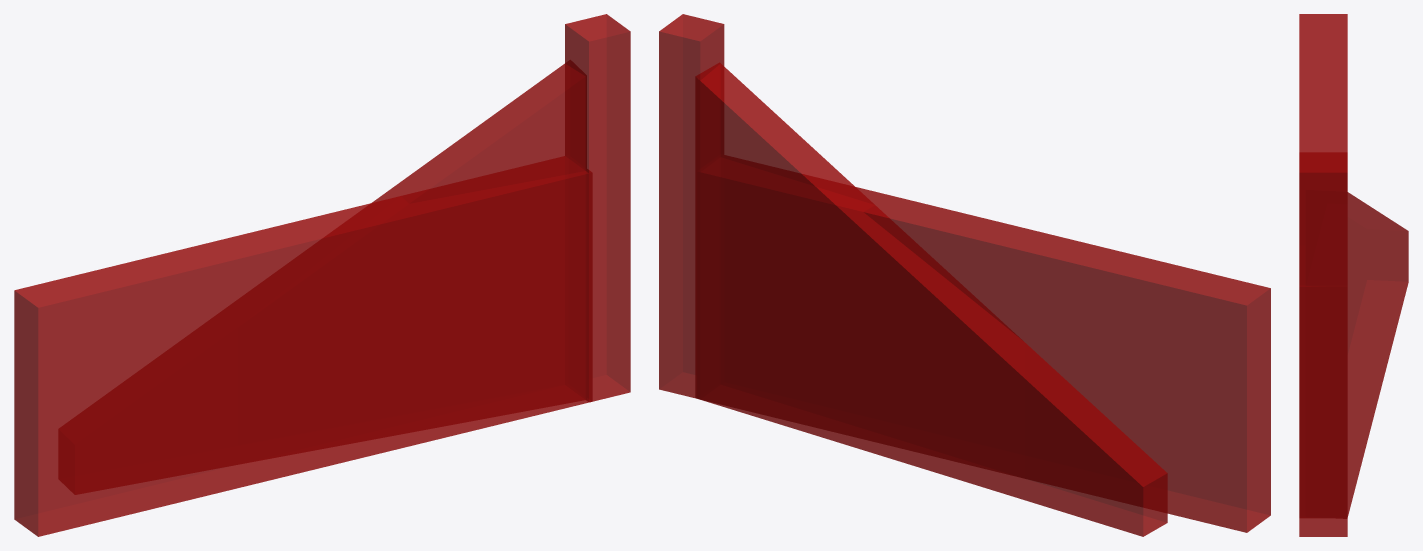
File: SM_Prop_Meadow_Fence_05_Collision.fbx
3 views of the same model, side by side, from view 1: azimuth 30°, elevation 25°; view 2: azimuth 150°, elevation 25°; view 3: azimuth 270°, elevation 25° (orthographic).
Parts seen in each view (by area): view 1: SM_Prop_Meadow_Fence_05_Collision; view 2: SM_Prop_Meadow_Fence_05_Collision; view 3: SM_Prop_Meadow_Fence_05_Collision.
Part boxes in pixels (<box>): SM_Prop_Meadow_Fence_05_Collision: <box>14,14,630,536</box>; SM_Prop_Meadow_Fence_05_Collision: <box>659,14,1270,536</box>; SM_Prop_Meadow_Fence_05_Collision: <box>1299,14,1408,536</box>.
Bounding box in the file's own units: 253 × 147 × 40.1.
